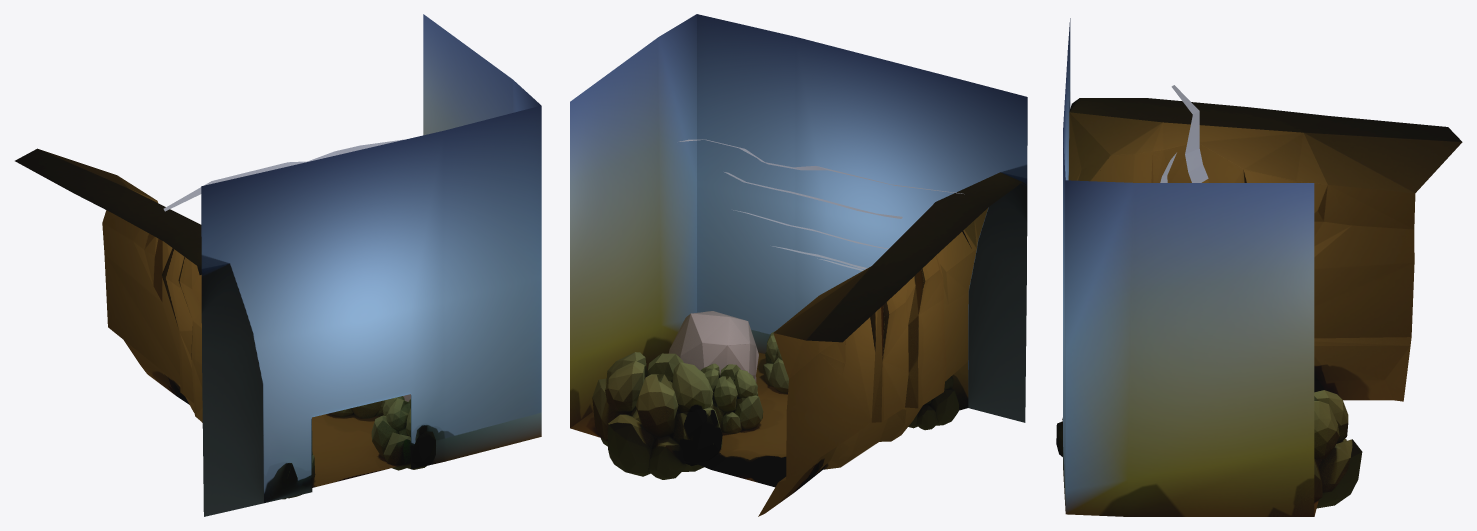
File: scene2end.glb
The picture shows the model from 3 angles, left to right: view 1: azimuth 30°, elevation 25°; view 2: azimuth 150°, elevation 25°; view 3: azimuth 270°, elevation 25°; orthographic projection. The views are drawn at different scales.
Parts seen in each view (by area): view 1: Monosperm.end.baked; view 2: Monosperm.end.baked; view 3: Monosperm.end.baked.
Part boxes in pixels (left/top/right/bottom): Monosperm.end.baked: left=15, top=14, right=541, bottom=516; Monosperm.end.baked: left=570, top=14, right=1027, bottom=516; Monosperm.end.baked: left=1056, top=18, right=1462, bottom=516.
Size of the model in its own units: 10.87 by 10.81 by 11.02.
Materials: 2 (2 with a texture image).
